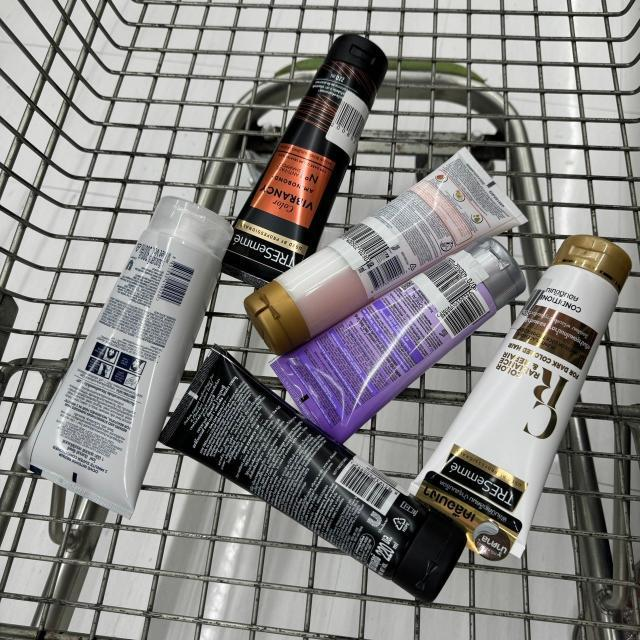Squeeze Tube: (159, 346, 467, 604), (407, 235, 635, 557), (17, 198, 234, 520), (243, 146, 527, 361), (270, 235, 523, 443), (222, 29, 387, 288)
